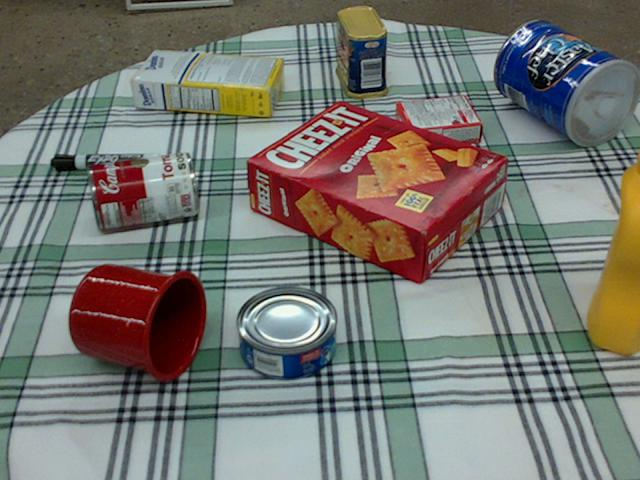cracker_box: (248, 99, 507, 281)
gelatin_box: (393, 91, 481, 150)
large_marker: (50, 152, 159, 170)
master_chef_can: (492, 21, 639, 145)
mug: (67, 264, 206, 380)
mustard_bottle: (586, 147, 639, 352)
potted_meat_can: (333, 5, 388, 97)
sugar_box: (131, 50, 285, 115)
tomato_soup_can: (86, 150, 198, 229)
tuna_fish_can: (235, 286, 336, 380)
